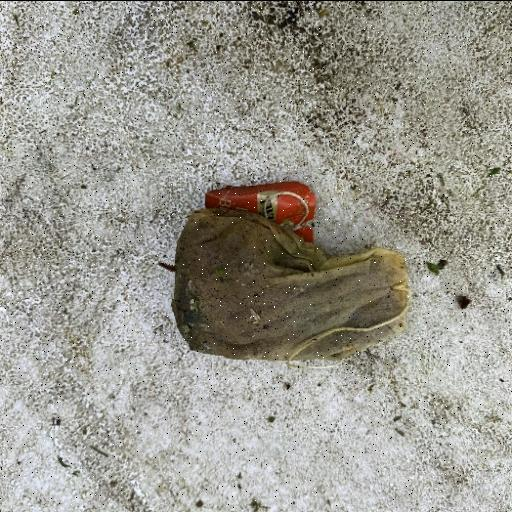Waste: (158, 188, 410, 366), (204, 180, 318, 230)
